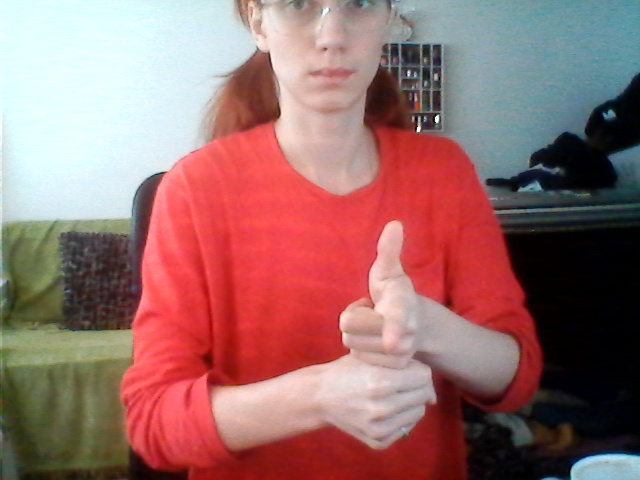kamera: (306, 216, 460, 453)
